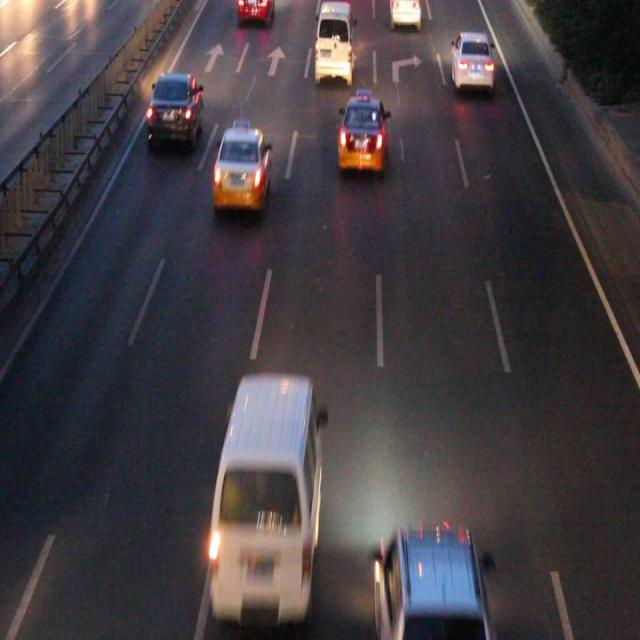car: (213, 129, 269, 205), (147, 76, 202, 143), (337, 100, 385, 168), (450, 34, 491, 88), (390, 1, 420, 26), (237, 1, 270, 23)
truck: (208, 374, 318, 603), (314, 1, 351, 80)
